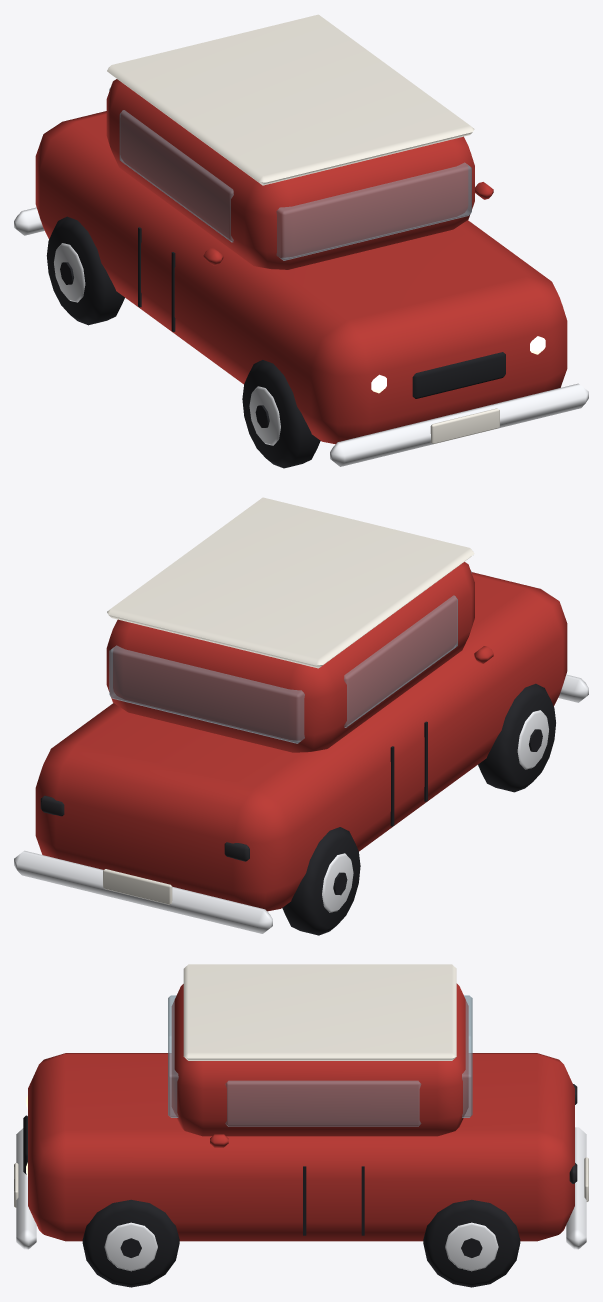
The model's file is car_hatch.glb.
3 views of the same model, one above another, from view 1: azimuth 30°, elevation 25°; view 2: azimuth 150°, elevation 25°; view 3: azimuth 270°, elevation 25° (orthographic). The views are drawn at different scales.
Parts seen in each view (by area): view 1: car_hatch; view 2: car_hatch; view 3: car_hatch.
Boxes of the visible parts, box(x1,y1,x2,y2) form: car_hatch: box(14, 14, 588, 468); car_hatch: box(14, 497, 588, 935); car_hatch: box(14, 964, 588, 1287).
Size of the model in its own units: 1.83 by 1.59 by 3.68.
